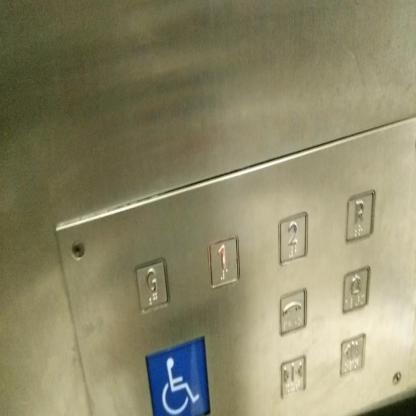1: (208, 232, 240, 290)
2: (277, 210, 308, 264)
CH: (144, 336, 210, 416)
G: (134, 255, 169, 314)
R: (344, 189, 376, 244)
alarm: (341, 265, 370, 314)
call: (278, 287, 307, 335)
close: (280, 354, 307, 398)
open: (339, 332, 366, 376)
